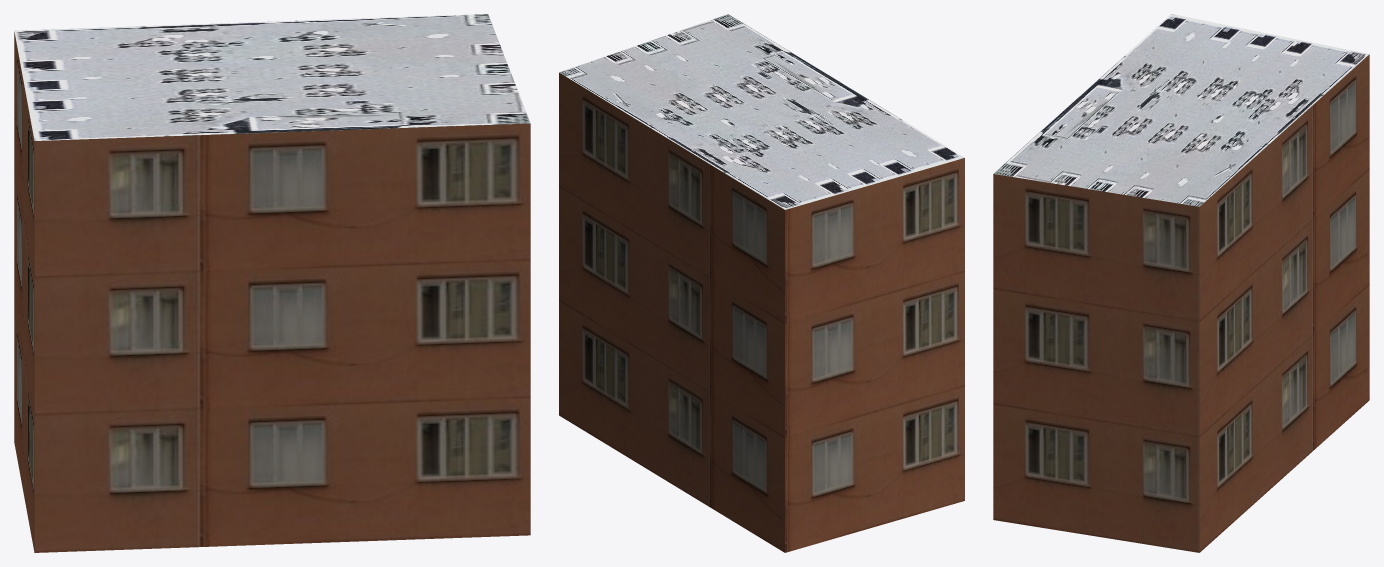
Rendered from ResTex__3128.fbx.
The picture shows the model from 3 angles, left to right: view 1: azimuth 30°, elevation 25°; view 2: azimuth 150°, elevation 25°; view 3: azimuth 270°, elevation 25°; orthographic projection. The views are drawn at different scales.
Parts seen in each view (by area): view 1: CityEngineMaterial_20_m, CityEngineMaterial_8_m; view 2: CityEngineMaterial_20_m, CityEngineMaterial_8_m; view 3: CityEngineMaterial_20_m, CityEngineMaterial_8_m.
Part boxes in pixels (x1=…): CityEngineMaterial_20_m: x1=14, y1=32, x2=530, y2=552; CityEngineMaterial_8_m: x1=14, y1=14, x2=530, y2=140; CityEngineMaterial_20_m: x1=559, y1=72, x2=964, y2=552; CityEngineMaterial_8_m: x1=559, y1=14, x2=964, y2=209; CityEngineMaterial_20_m: x1=993, y1=54, x2=1369, y2=552; CityEngineMaterial_8_m: x1=993, y1=14, x2=1369, y2=206.
Bounding box in the file's own units: 10.76 × 9 × 8.87.
Materials: 2 (2 with a texture image).
